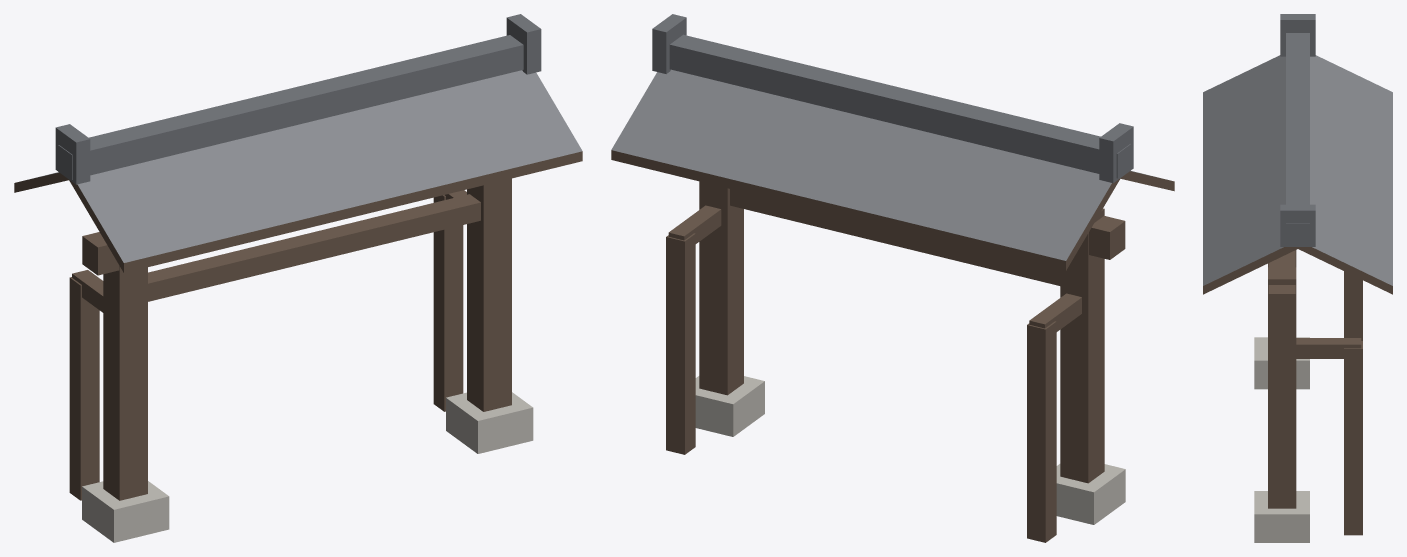
File: HK_Gate.glb
3 views of the same model, side by side, from view 1: azimuth 30°, elevation 25°; view 2: azimuth 150°, elevation 25°; view 3: azimuth 270°, elevation 25° (orthographic). The views are drawn at different scales.
Parts seen in each view (by area): view 1: HK_Gate; view 2: HK_Gate; view 3: HK_Gate.
Part boxes in pixels (x1=…): HK_Gate: x1=14, y1=14, x2=582, y2=542; HK_Gate: x1=611, y1=14, x2=1174, y2=542; HK_Gate: x1=1203, y1=14, x2=1392, y2=542.
Bounding box in the file's own units: 5.9 × 4.77 × 2.4.
